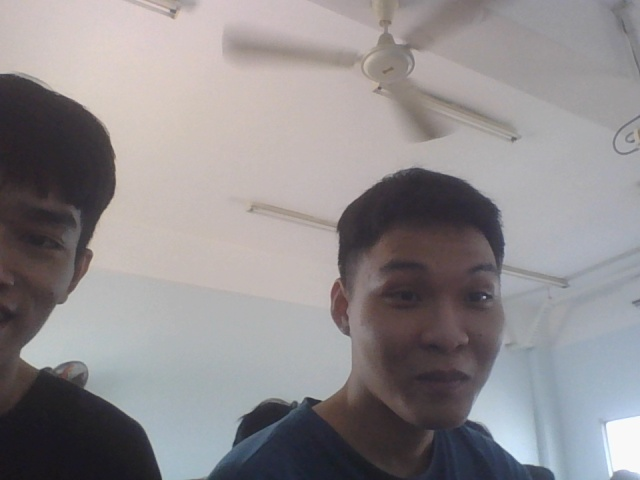real: (323, 147, 530, 441)
